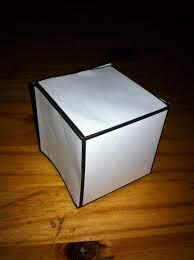cubos: (25, 56, 175, 213)
